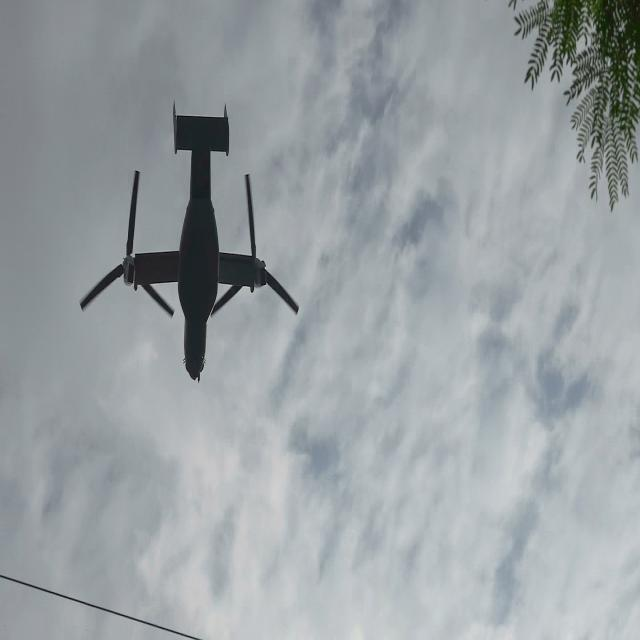MIL_Plane: (79, 100, 299, 382)
